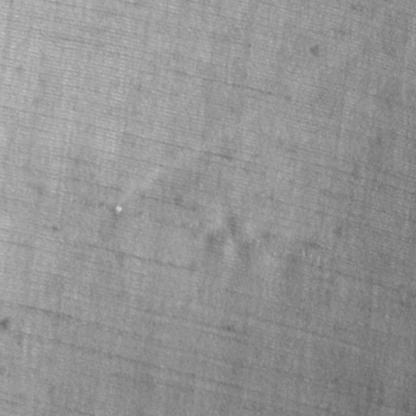hole: (114, 203, 123, 214)
